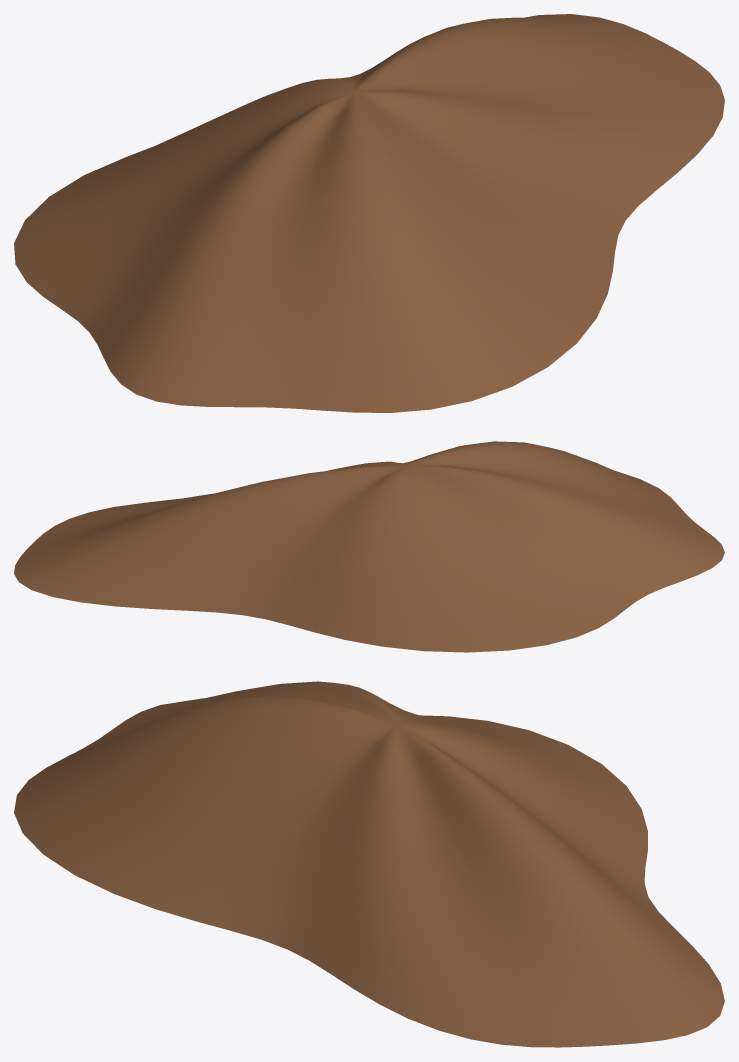
Rendered from soil_cover.glb.
3 renders of one model, top to bottom at view 1: azimuth 30°, elevation 25°; view 2: azimuth 150°, elevation 25°; view 3: azimuth 270°, elevation 25°, orthographic. The views are drawn at different scales.
Parts seen in each view (by area): view 1: SoilCover | shallow irregular mound; view 2: SoilCover | shallow irregular mound; view 3: SoilCover | shallow irregular mound.
Part boxes in pixels (x1,y1,x2,y2): SoilCover | shallow irregular mound: (14, 14, 724, 412); SoilCover | shallow irregular mound: (14, 441, 724, 652); SoilCover | shallow irregular mound: (14, 681, 724, 1047).
Bounding box in the file's own units: 1.34 × 0.2469 × 1.16.
